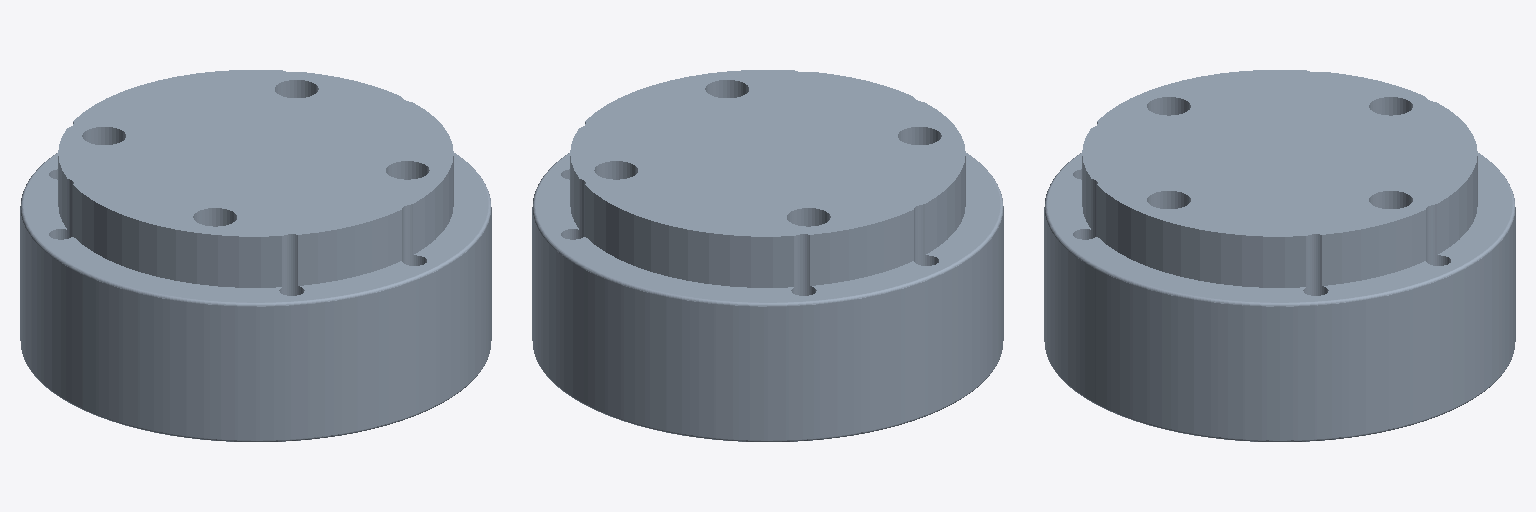
robot.urdf — sensor:
<?xml version='1.0' encoding='utf-8'?>
<robot name="sensor">
  <!-- Visual inspection only. Meters; bottom center origin, +Z toward adapter. Provisional mounting direction. No calibrated mass, inertia, collision or sensing model. -->
  <mujoco>
    <compiler strippath="false" discardvisual="false" fusestatic="false" />
  </mujoco>
  <link name="sensor_link">
    <visual name="sensor_visual">
      <geometry>
        <mesh filename="../meshes/sensor.stl" />
      </geometry>
      <material name="sensor_silver">
        <color rgba=".65 .70 .76 1" />
      </material>
    </visual>
  </link>
  <link name="sensor_output_frame" />
  <joint name="sensor_output_fixed" type="fixed">
    <parent link="sensor_link" />
    <child link="sensor_output_frame" />
    <origin xyz="0 0 .0335" rpy="0 0 0" />
  </joint>
</robot>

--- Facts derived from the render (not from the file) ---
The picture shows the robot from 3 angles, left to right: view 1: azimuth 30°, elevation 25°; view 2: azimuth 150°, elevation 25°; view 3: azimuth 270°, elevation 25°; orthographic projection.
Robot: sensor — 2 links, 1 joints (1 fixed); root link sensor_link; default pose: every joint at zero.
Links seen in each view (by area): view 1: sensor_link; view 2: sensor_link; view 3: sensor_link.
Boxes of the visible links, x1,y1,x2,y2 form: sensor_link: (20, 70, 491, 441); sensor_link: (532, 70, 1003, 441); sensor_link: (1044, 70, 1515, 441).
Bounding box of the posed robot: 0.075 × 0.075 × 0.0335 m (x, y, z).
Meshes: 1 distinct files referenced, 1 mesh visuals loaded (1 binary STL).
